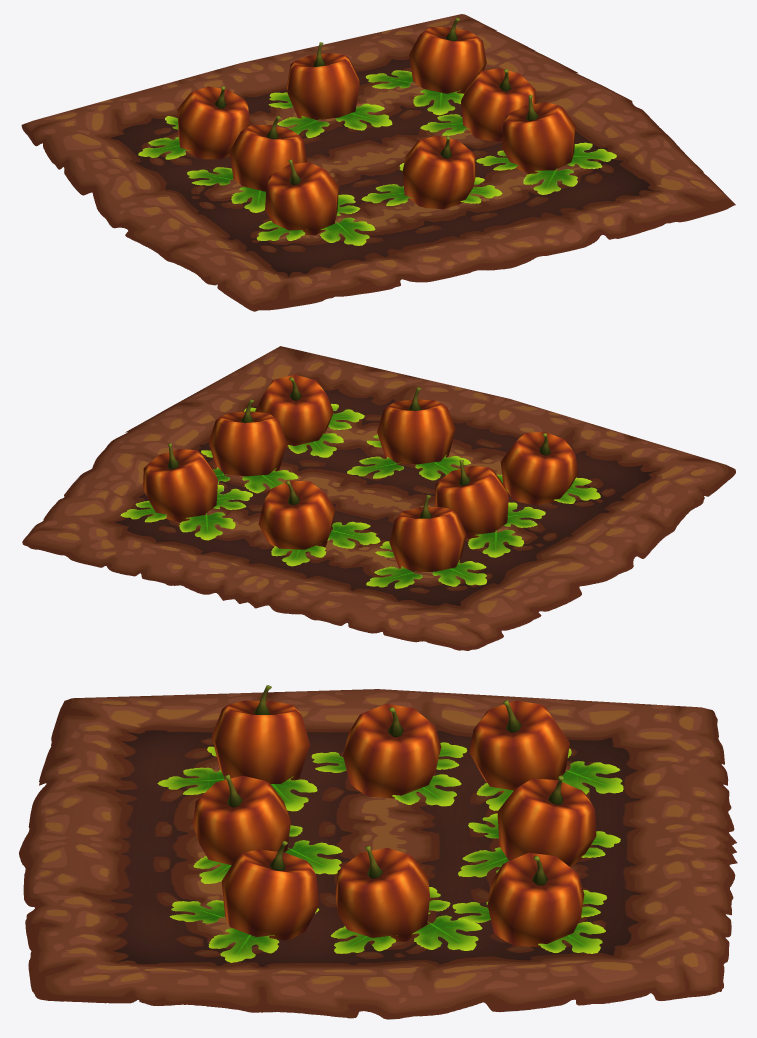
File: Field_03a.FBX
3 renders of one model, top to bottom at view 1: azimuth 30°, elevation 25°; view 2: azimuth 150°, elevation 25°; view 3: azimuth 270°, elevation 25°, orthographic. The views are drawn at different scales.
Visible parts, largest first — view 1: Field_03a; view 2: Field_03a; view 3: Field_03a.
Boxes of the visible parts, left/top/right/bottom form: Field_03a: left=21, top=14, right=735, bottom=311; Field_03a: left=22, top=346, right=735, bottom=650; Field_03a: left=19, top=685, right=737, bottom=1019.
Bounding box in the file's own units: 2.96 × 0.3776 × 2.74.
